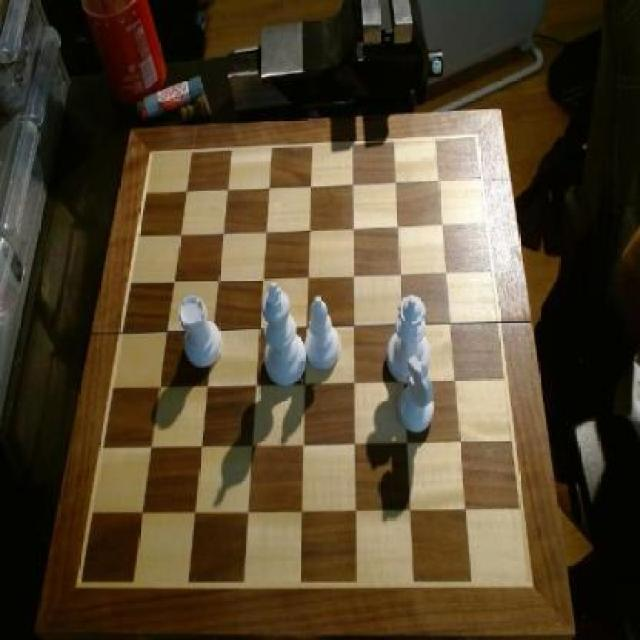black-rook: (306, 294, 343, 374)
white-bishop: (262, 282, 308, 388)
white-king: (397, 354, 438, 436)
white-pawn: (386, 294, 430, 384)
white-queen: (177, 292, 221, 372)
